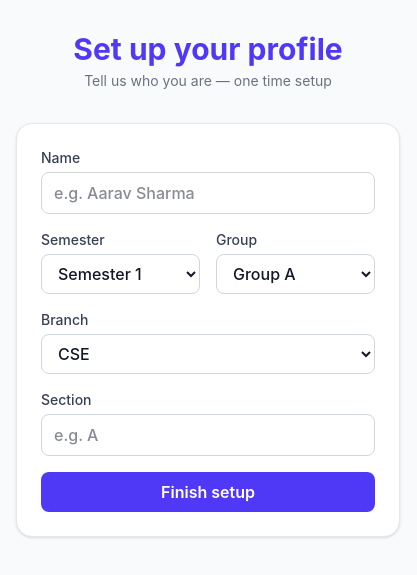
OnboardingScreen › cannot submit with empty required fields
The width and height of the screenshot is (417, 575).
Click the button "Finish setup": (208, 492) [41,472,375,512]
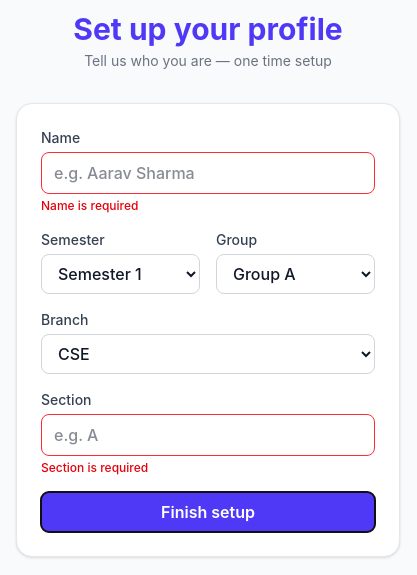
Expected: the text "Name is required" is shown, [41,198,138,213]
Expected: the text "Section is required" is shown, [41,460,148,475]
